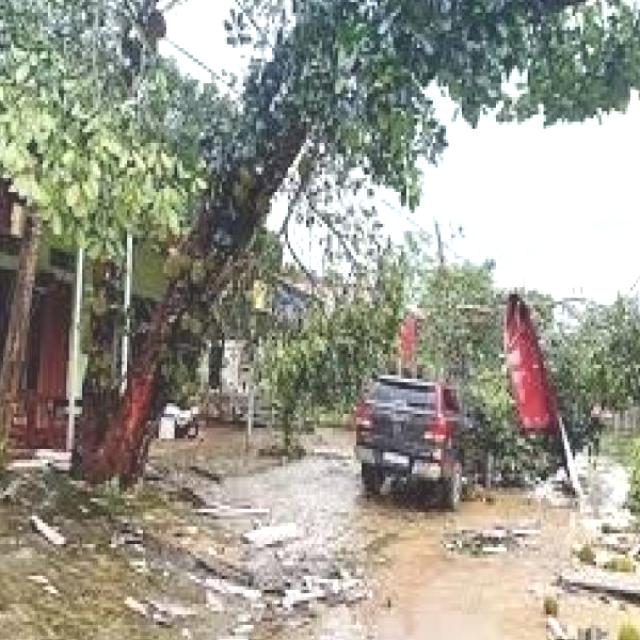fallen_object: (321, 237, 640, 488)
